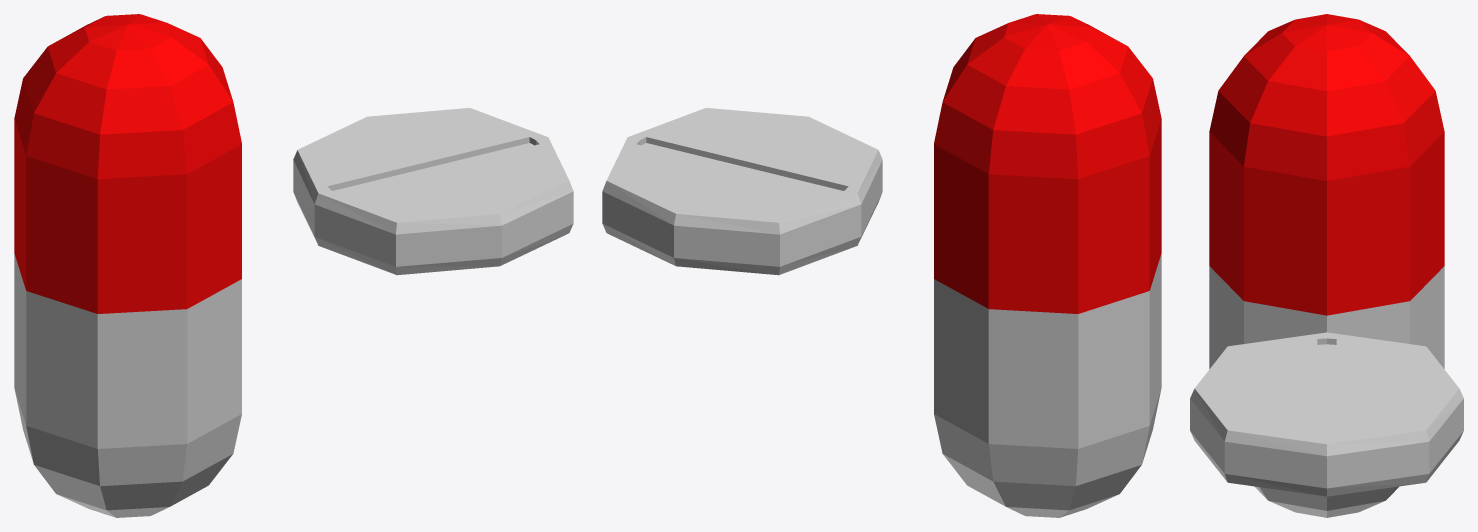
The model's file is pills.glb.
3 renders of one model, left to right at view 1: azimuth 30°, elevation 25°; view 2: azimuth 150°, elevation 25°; view 3: azimuth 270°, elevation 25°, orthographic.
Parts seen in each view (by area): view 1: Object_4, Object_5; view 2: Object_4, Object_5; view 3: Object_5, Object_4.
Boxes of the visible parts, x1,y1,x2,y2 form: Object_4: (14,108,573,517); Object_5: (14,14,241,313); Object_4: (602,108,1161,517); Object_5: (934,14,1161,313); Object_5: (1209,14,1444,315); Object_4: (1190,266,1463,517).
Size of the model in its own units: 5.15 by 4.52 by 2.33.
